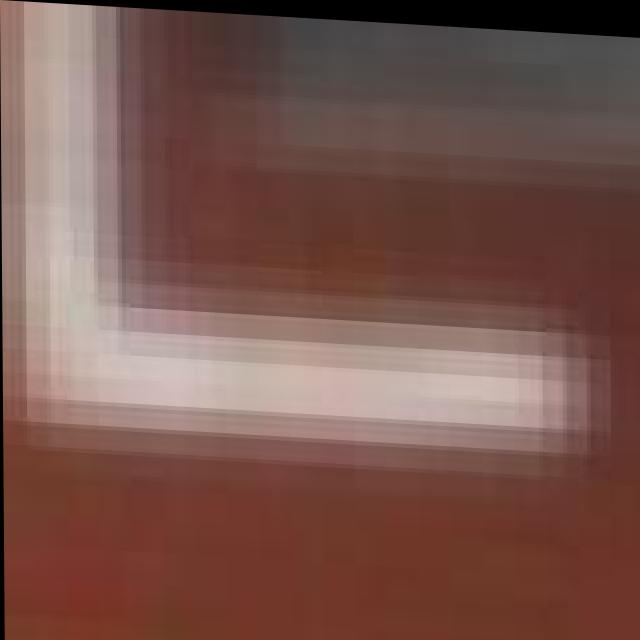transistor: (140, 7, 640, 554)
